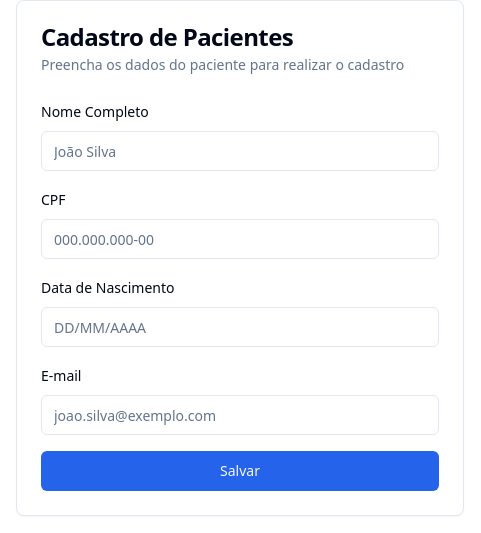
Test: PatientForm › deve aplicar máscara no CPF
In the field labelled "CPF": (240, 239) [41,219,439,259], type "12345678900"
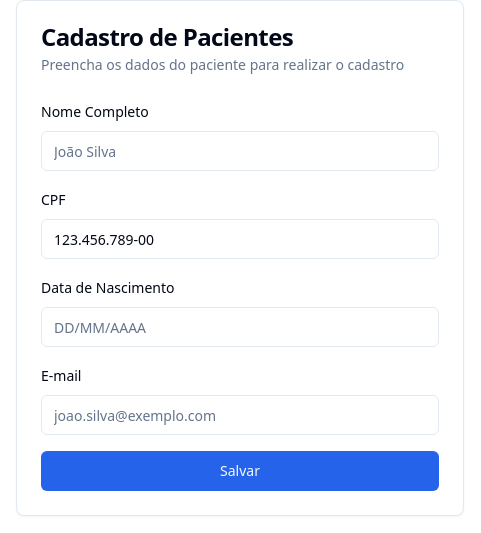
Now the field labelled "CPF" holds "123.456.789-00", box [41,219,439,259]
